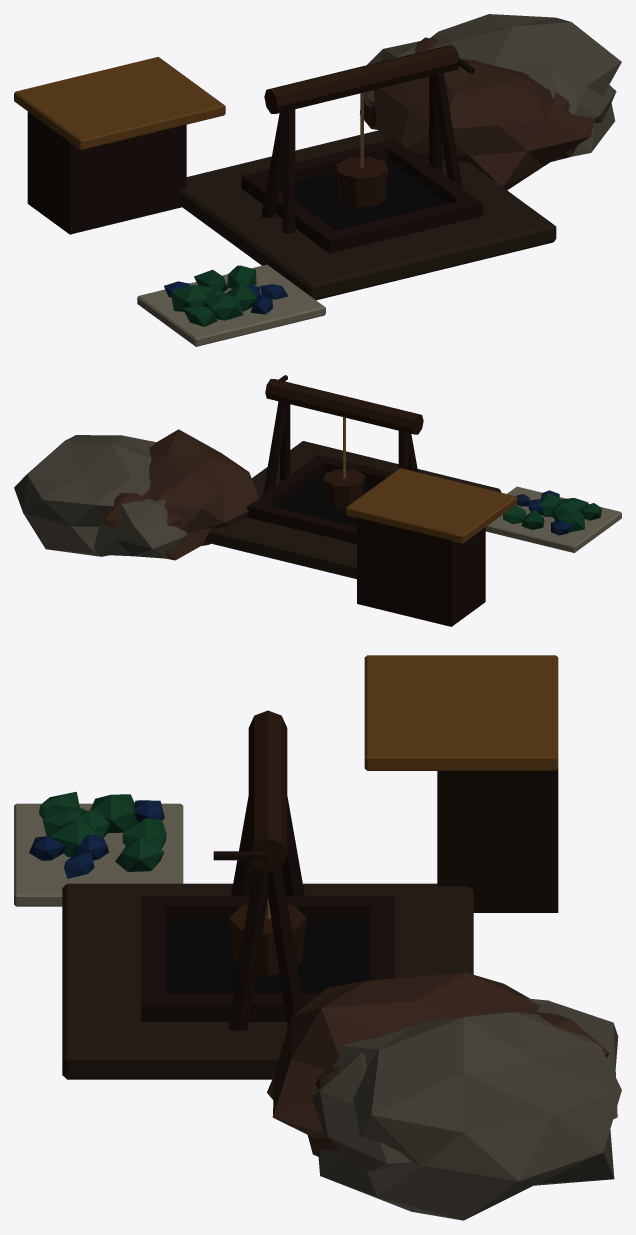
File: mine_pit.fbx
3 views of the same model, one above another, from view 1: azimuth 30°, elevation 25°; view 2: azimuth 150°, elevation 25°; view 3: azimuth 270°, elevation 25° (orthographic). The views are drawn at different scales.
Parts seen in each view (by area): view 1: mine_pit; view 2: mine_pit; view 3: mine_pit.
Boxes of the visible parts, left/top/right/bottom form: mine_pit: left=14, top=14, right=621, bottom=346; mine_pit: left=14, top=375, right=621, bottom=626; mine_pit: left=14, top=655, right=621, bottom=1220.
Bounding box in the file's own units: 7.9 × 2.46 × 5.03.
